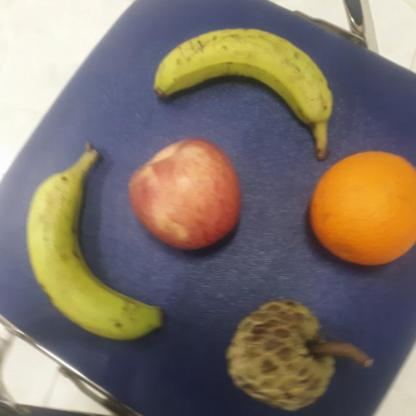annona: (224, 296, 338, 413)
apple: (123, 134, 241, 258)
banana: (22, 150, 166, 343), (146, 21, 340, 126)
orange: (300, 146, 415, 272)
